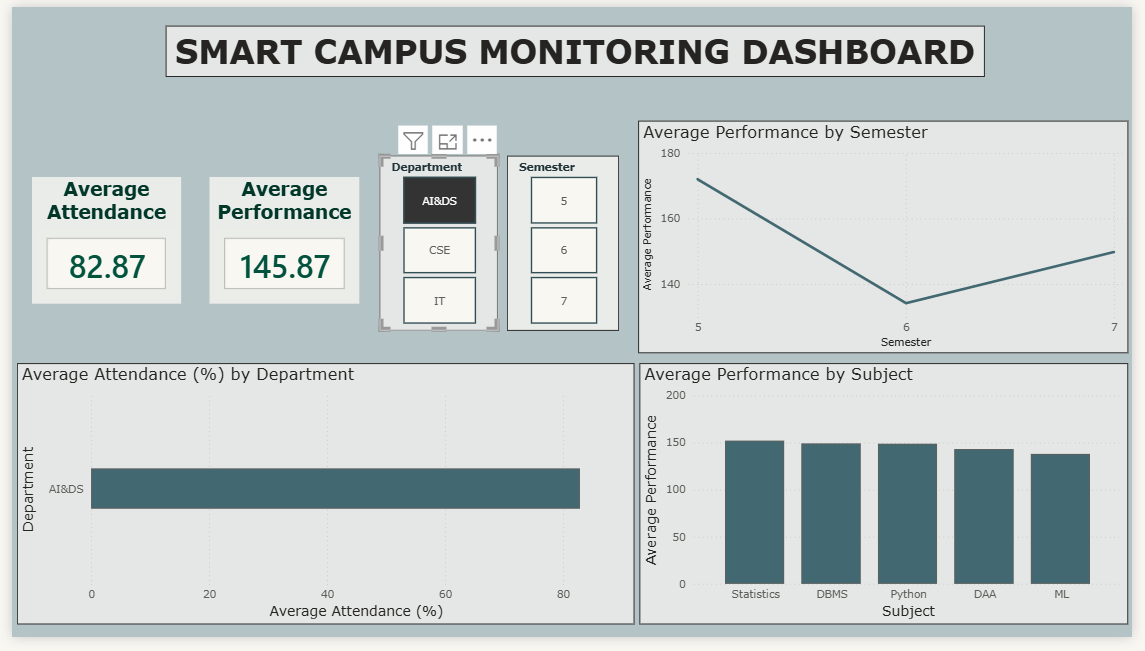

What the dashboard file says about the page in this screenshot:
{"tool":"powerbi","page":{"name":"Page 1","canvas":[1280,720],"ordinal":0},"visuals":[{"type":"cardVisual","title":"Average Attendance","fields":{"Data":["5 student_performance.Average Attendance (%)"]},"box":[23.2,194.3,170,145],"z":0},{"type":"clusteredBarChart","fields":{"Category":["5 student_performance.Department","5 student_performance.Subject","5 student_performance.Student_ID"],"Y":["5 student_performance.Average Attendance (%)"]},"box":[5.7,407.1,705.7,298.6],"z":1000},{"type":"clusteredColumnChart","fields":{"Category":["5 student_performance.Subject"],"Y":["5 student_performance.Average Performance"]},"box":[717.1,407.1,558.6,298.6],"z":2000},{"type":"lineChart","fields":{"Category":["5 student_performance.Semester"],"Y":["5 student_performance.Average Performance"]},"box":[715.7,130.6,560,265.7],"z":3000},{"type":"slicer","fields":{"Values":["5 student_performance.Department"]},"box":[420,169.4,135,200],"z":4000},{"type":"textbox","box":[175.7,21.4,935.7,58.6],"z":5000},{"type":"cardVisual","title":"Average Performance","fields":{"Data":["5 student_performance.Average Performance"]},"box":[225.7,194.3,171.2,145],"z":6000},{"type":"slicer","fields":{"Values":["5 student_performance.Semester"]},"box":[565.7,169.6,127.8,200],"z":7000}]}

Visuals, with their boxes in screenshot pixels (x1, y1, x2, y2), scaled from the page's 1280x720 canvas onto the 1145x651 screenshot:
"Average Attendance" cardVisual: BBox(21, 176, 173, 307)
clusteredBarChart - 5 student_performance.Department x 5 student_performance.Subject: BBox(5, 368, 636, 638)
clusteredColumnChart - 5 student_performance.Subject x 5 student_performance.Average Performance: BBox(641, 368, 1141, 638)
lineChart - 5 student_performance.Semester x 5 student_performance.Average Performance: BBox(640, 118, 1141, 358)
slicer - 5 student_performance.Department: BBox(376, 153, 496, 334)
textbox: BBox(157, 19, 994, 72)
"Average Performance" cardVisual: BBox(202, 176, 355, 307)
slicer - 5 student_performance.Semester: BBox(506, 153, 620, 334)
